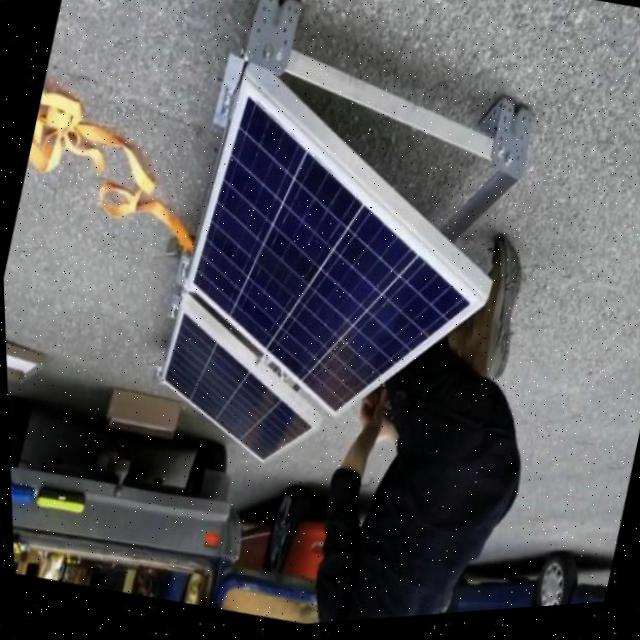Normal Solar Panel: (152, 65, 530, 462), (140, 294, 332, 484)
